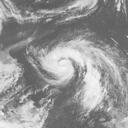cyclone: (40, 44, 88, 87)
